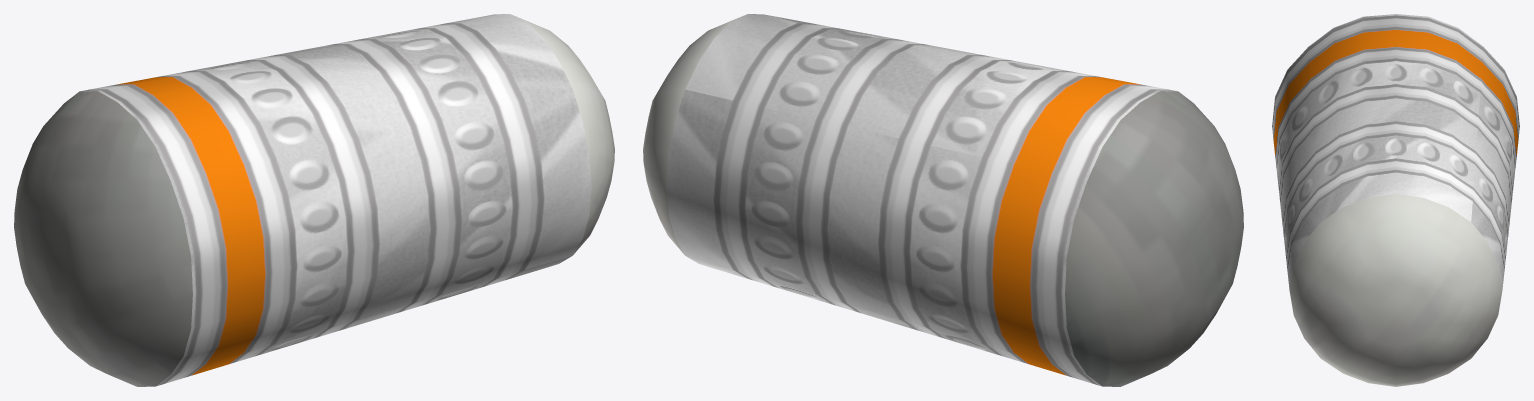
File: human4r.obj
The picture shows the model from 3 angles, left to right: view 1: azimuth 30°, elevation 25°; view 2: azimuth 150°, elevation 25°; view 3: azimuth 270°, elevation 25°; orthographic projection. The views are drawn at different scales.
Parts seen in each view (by area): view 1: ColobotMesh_1_ColobotMesh_; view 2: ColobotMesh_1_ColobotMesh_; view 3: ColobotMesh_1_ColobotMesh_.
Part boxes in pixels (x1=…): ColobotMesh_1_ColobotMesh_: x1=14, y1=14, x2=614, y2=386; ColobotMesh_1_ColobotMesh_: x1=643, y1=14, x2=1243, y2=386; ColobotMesh_1_ColobotMesh_: x1=1272, y1=14, x2=1519, y2=386.
Size of the model in its own units: 1.68 by 0.8027 by 0.8027.
